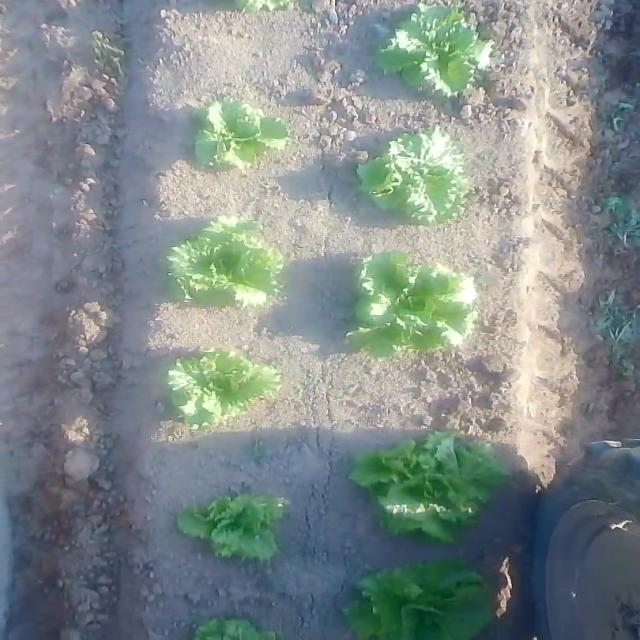Lettuce-Ready-to-Harvest: (353, 429, 502, 543), (343, 249, 477, 356), (167, 214, 285, 306), (356, 125, 466, 223), (377, 3, 481, 96), (165, 346, 283, 423), (174, 494, 286, 562), (196, 98, 289, 169)
